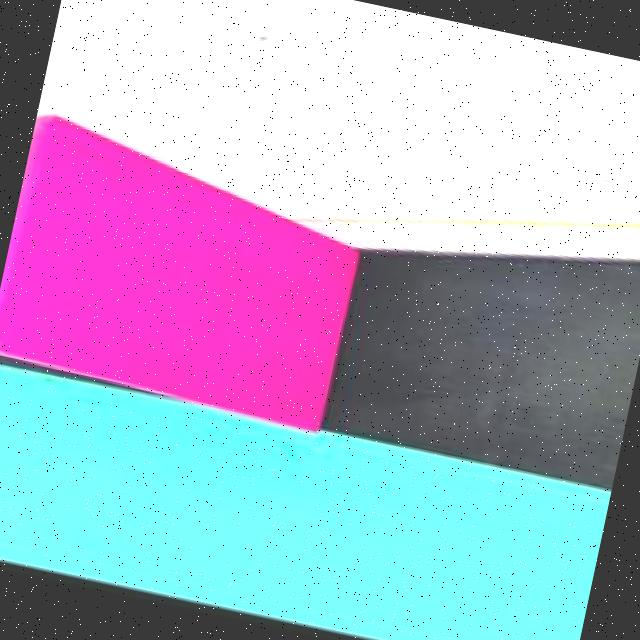xparking: (0, 116, 358, 395)
